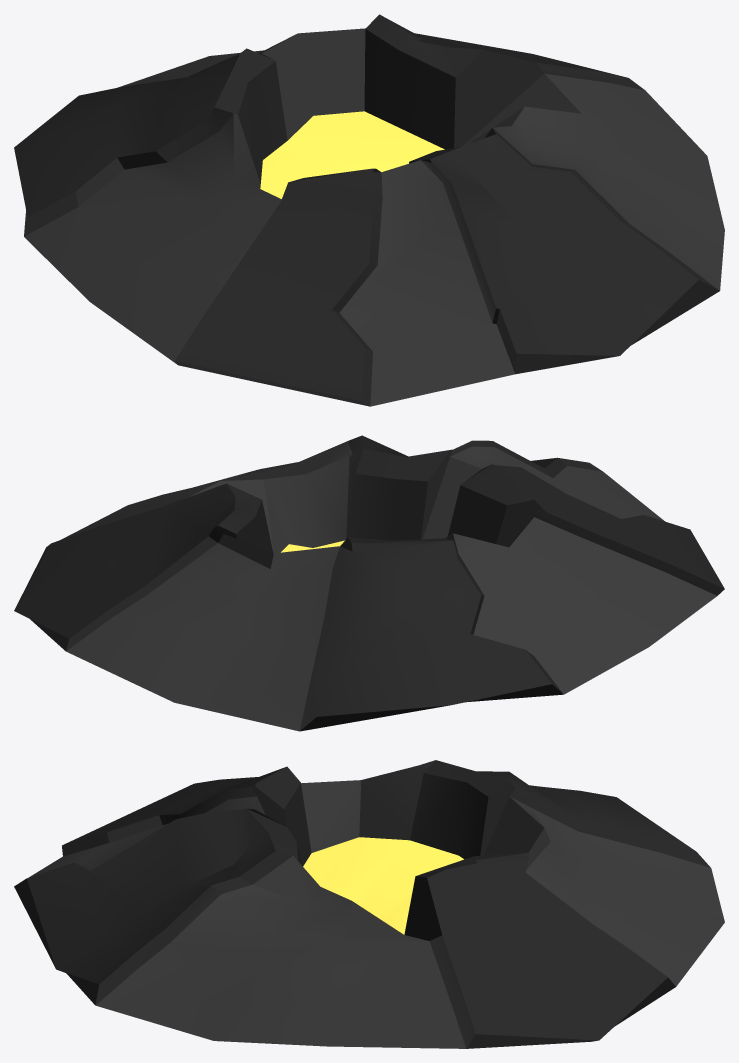
Rendered from magmastuff_crater.fbx.
3 views of the same model, one above another, from view 1: azimuth 30°, elevation 25°; view 2: azimuth 150°, elevation 25°; view 3: azimuth 270°, elevation 25° (orthographic). The views are drawn at different scales.
Parts seen in each view (by area): view 1: crater; view 2: crater; view 3: crater.
Part boxes in pixels (left/top/right/bottom): crater: left=14, top=14, right=724, bottom=406; crater: left=14, top=435, right=724, bottom=731; crater: left=14, top=760, right=724, bottom=1048.
Size of the model in its own units: 815 by 192 by 901.
